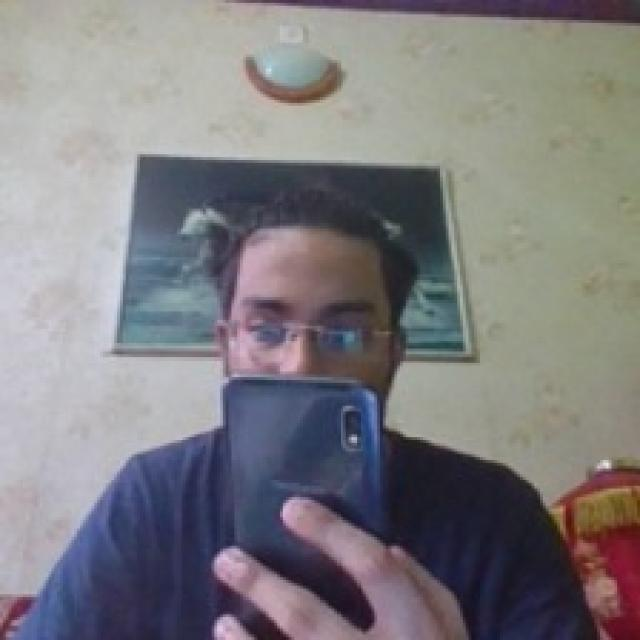Phone: (221, 375, 384, 542)
